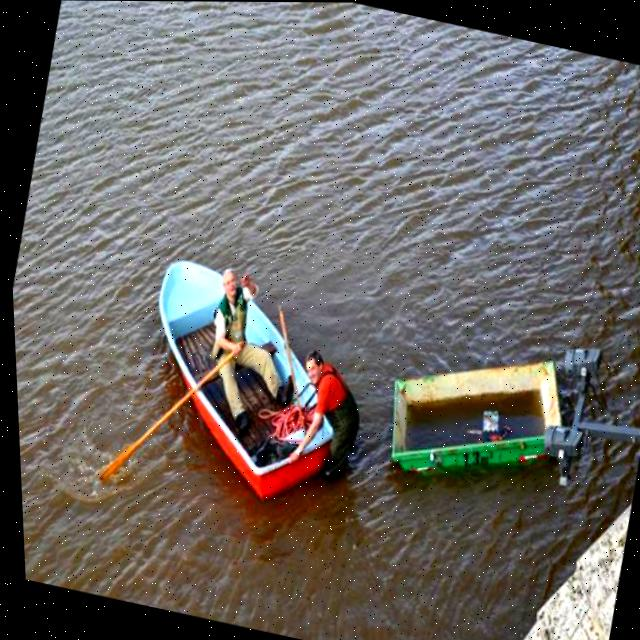civilian: (179, 258, 318, 439), (268, 329, 386, 503)
